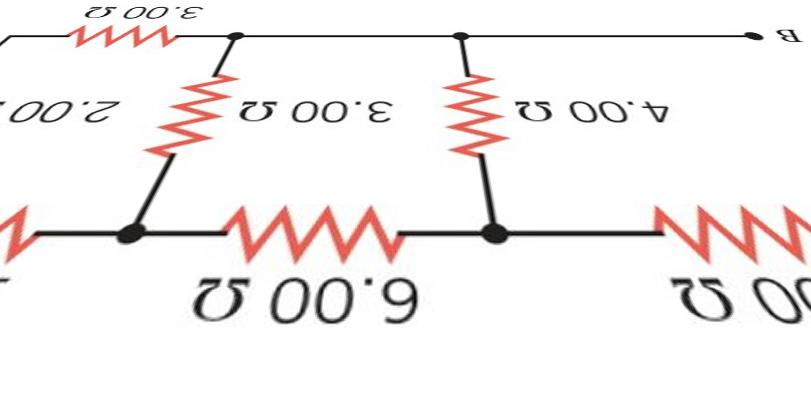resistor: (643, 185, 810, 278), (203, 196, 419, 265), (136, 69, 246, 167), (440, 59, 509, 173), (61, 21, 182, 56)
